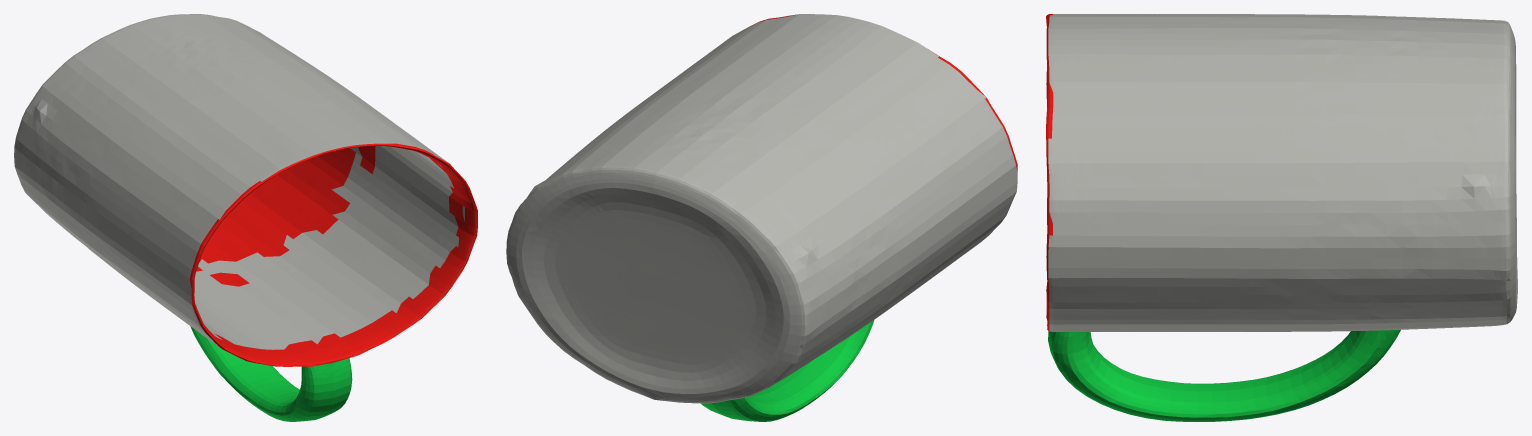
File: mug.obj
3 renders of one model, left to right at view 1: azimuth 30°, elevation 25°; view 2: azimuth 150°, elevation 25°; view 3: azimuth 270°, elevation 25°, orthographic. The views are drawn at different scales.
Size of the model in its own units: 0.07 by 0.07 by 0.08.
